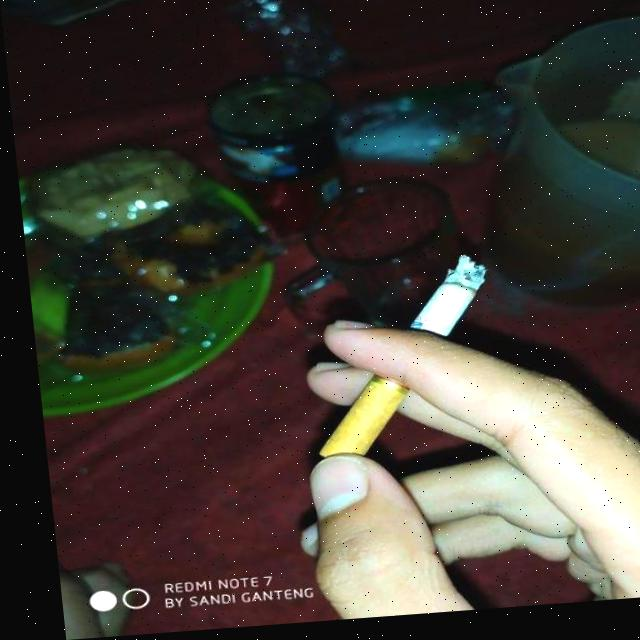cigarette: (295, 260, 495, 461)
